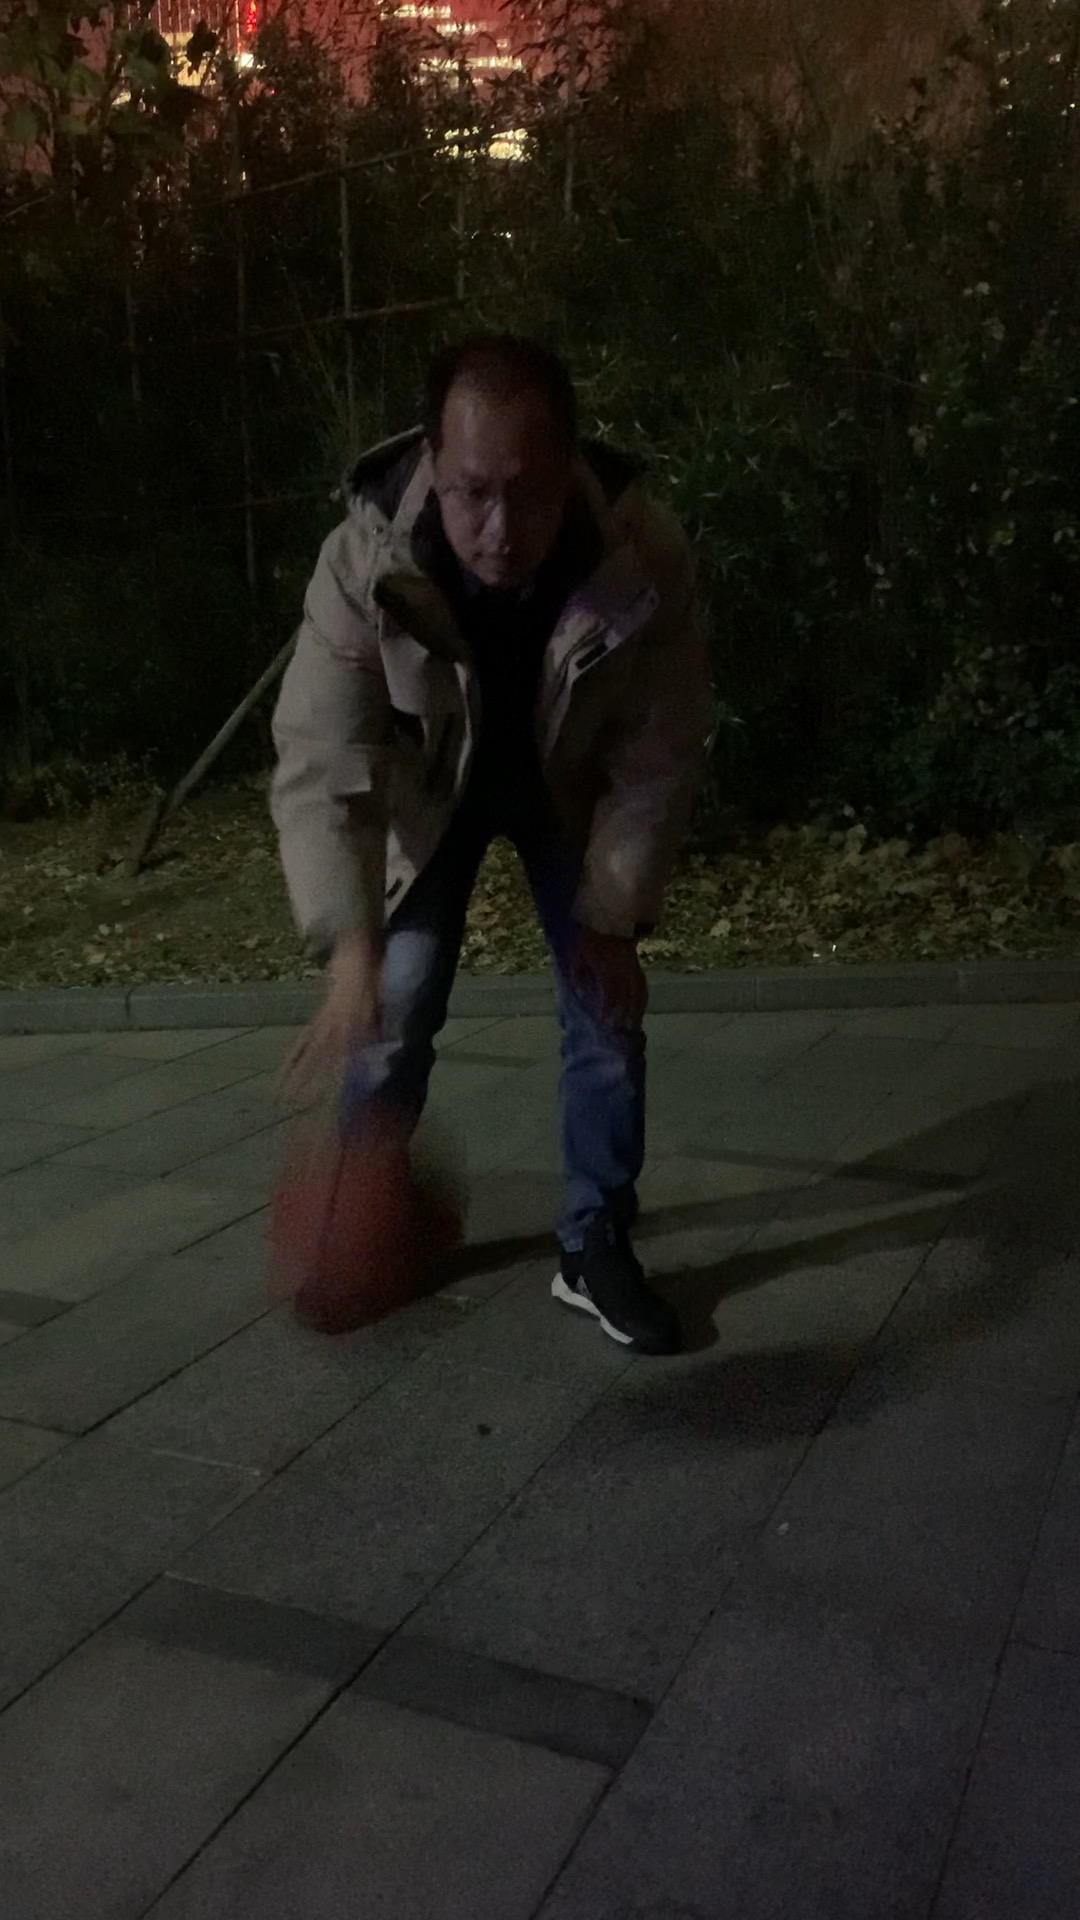ball: (276, 1124, 467, 1313)
